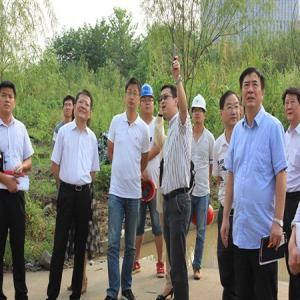blue: (139, 85, 155, 118)
none: (241, 66, 267, 114), (219, 89, 242, 130), (73, 89, 95, 124), (160, 82, 180, 117), (2, 79, 18, 116), (125, 78, 141, 114), (284, 85, 300, 120), (62, 95, 75, 119)
white: (190, 94, 207, 128)
